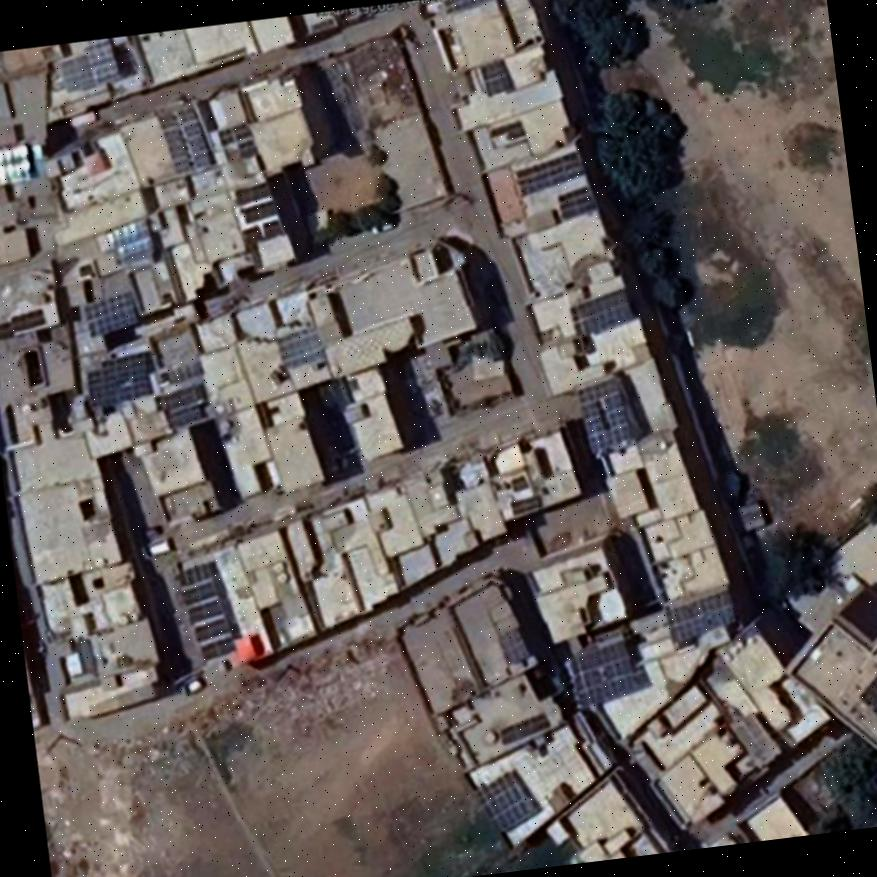Solarpanel: (570, 639, 635, 709), (577, 379, 631, 453), (478, 769, 538, 830), (666, 589, 735, 642), (84, 351, 148, 403), (514, 152, 583, 194), (578, 288, 635, 337), (86, 292, 136, 335), (110, 218, 154, 264), (558, 185, 597, 221), (0, 142, 31, 182), (0, 309, 42, 337), (482, 61, 509, 94), (201, 633, 235, 659), (188, 601, 226, 624), (242, 199, 278, 223), (180, 582, 216, 605), (194, 619, 233, 640), (234, 182, 271, 203), (245, 223, 281, 244)
